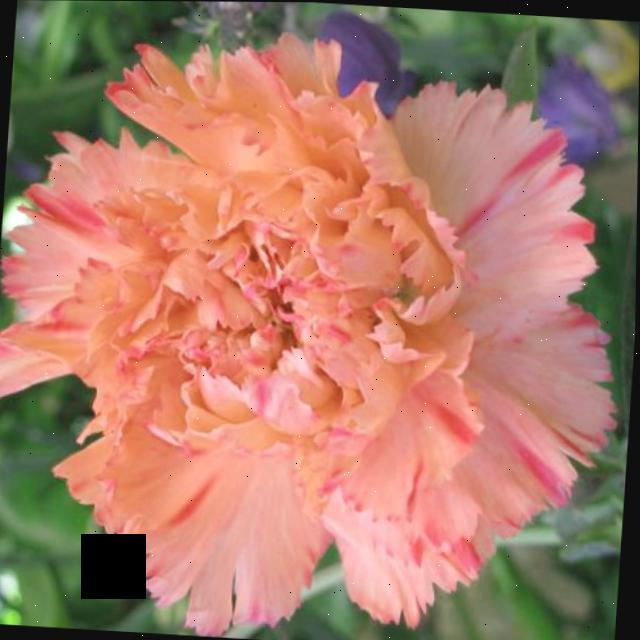carnation: (0, 20, 638, 640)
